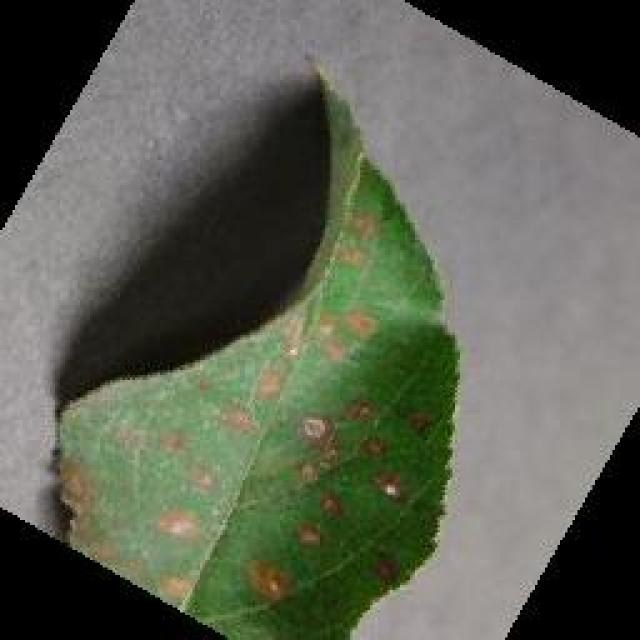apple cedar apple rust: (50, 55, 462, 637)
